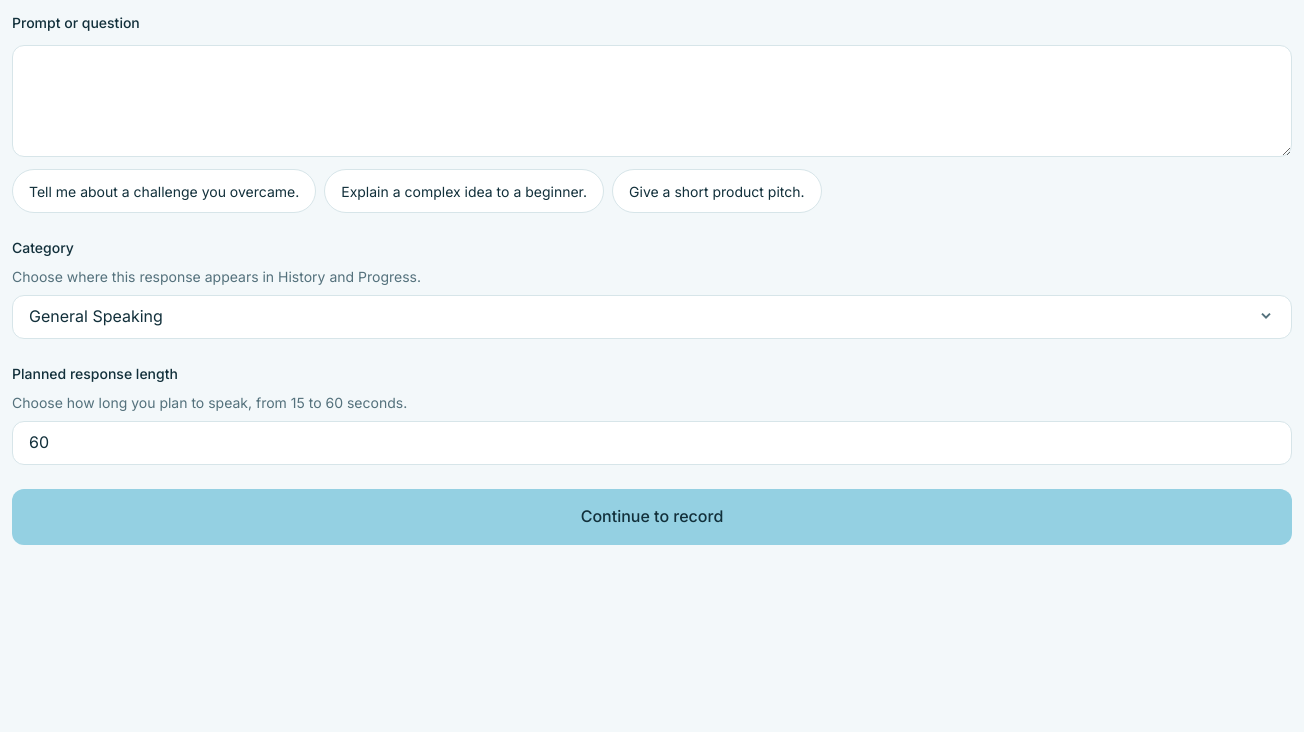
Test: custom prompt form › fills the prompt from each clickable example
The image size is (1304, 732).
Click the button "Tell me about a challenge you overcame." at (164, 191), box 12,169 -> 316,213
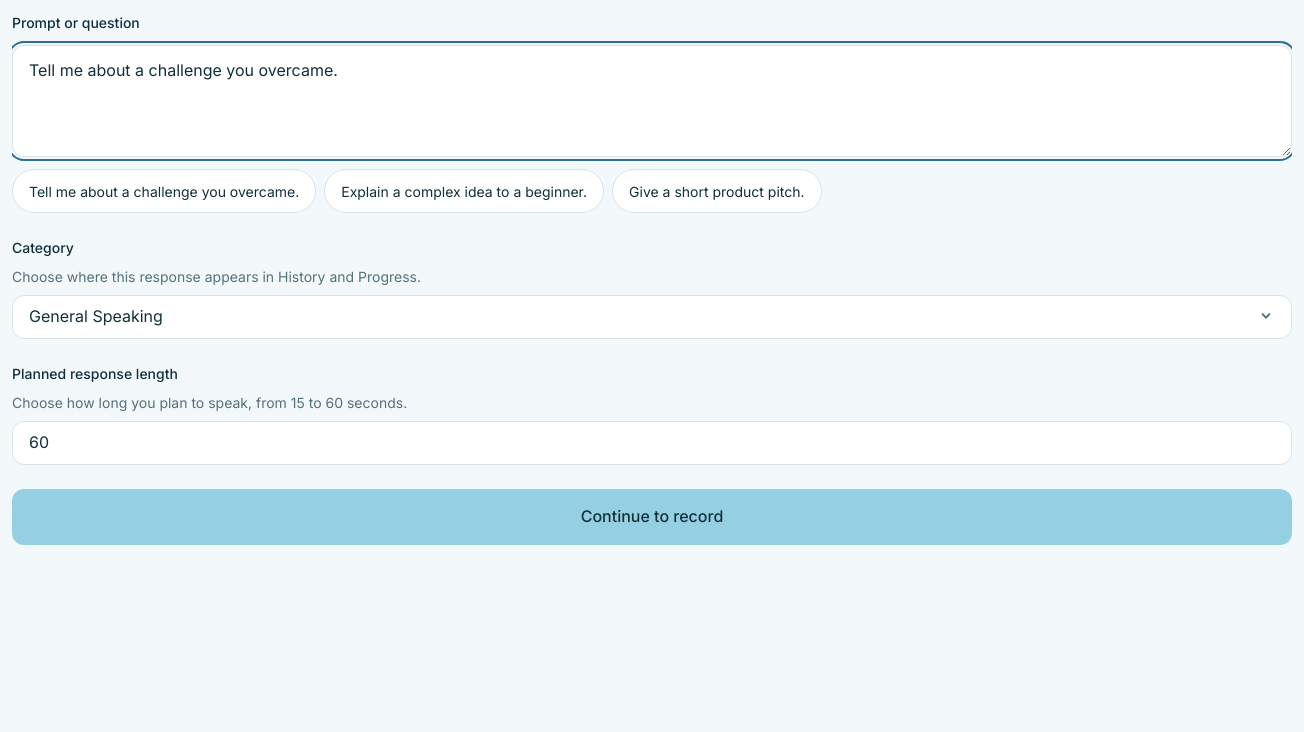
Result: the text box labelled "Prompt or question" holds "Tell me about a challenge you overcame." at 12,45 -> 1292,157
Click the button "Explain a complex idea to a beginner." at (464, 191), box 324,169 -> 604,213
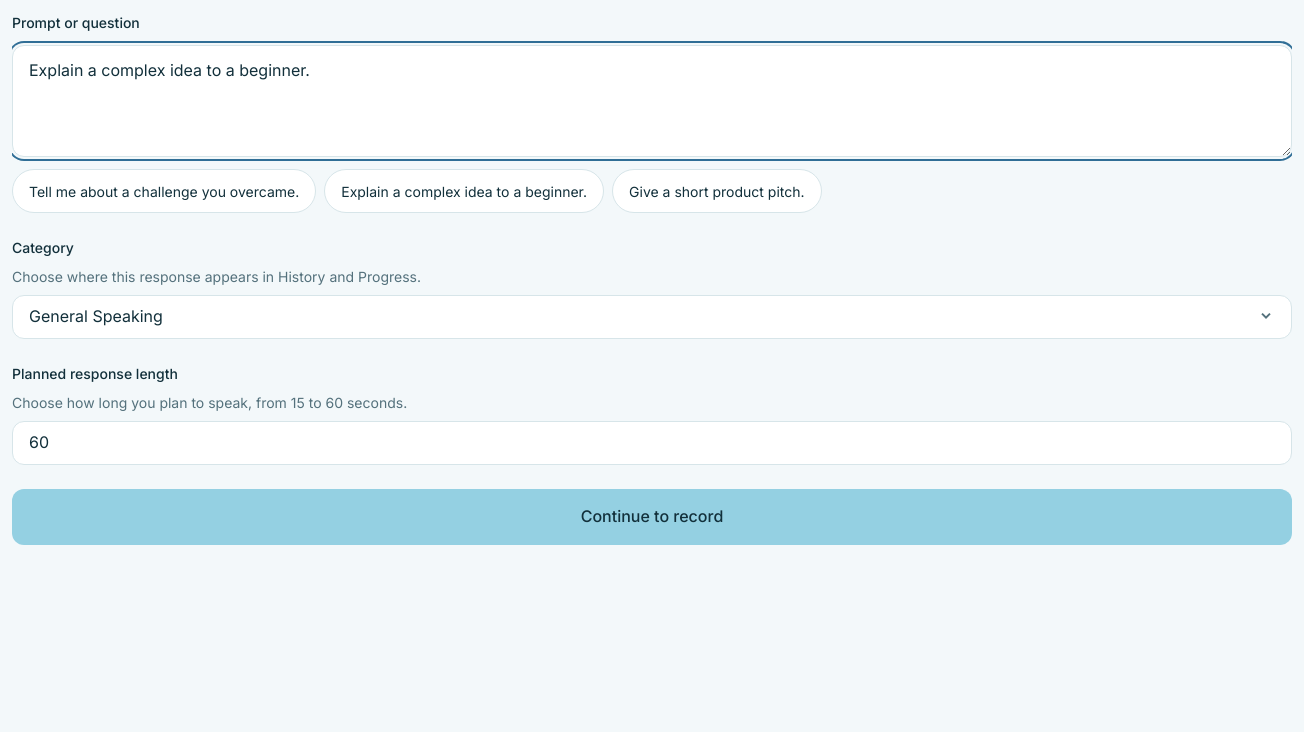
Result: the text box labelled "Prompt or question" holds "Explain a complex idea to a beginner." at 12,45 -> 1292,157
Click the button "Give a short product pitch." at (717, 191), box 612,169 -> 822,213
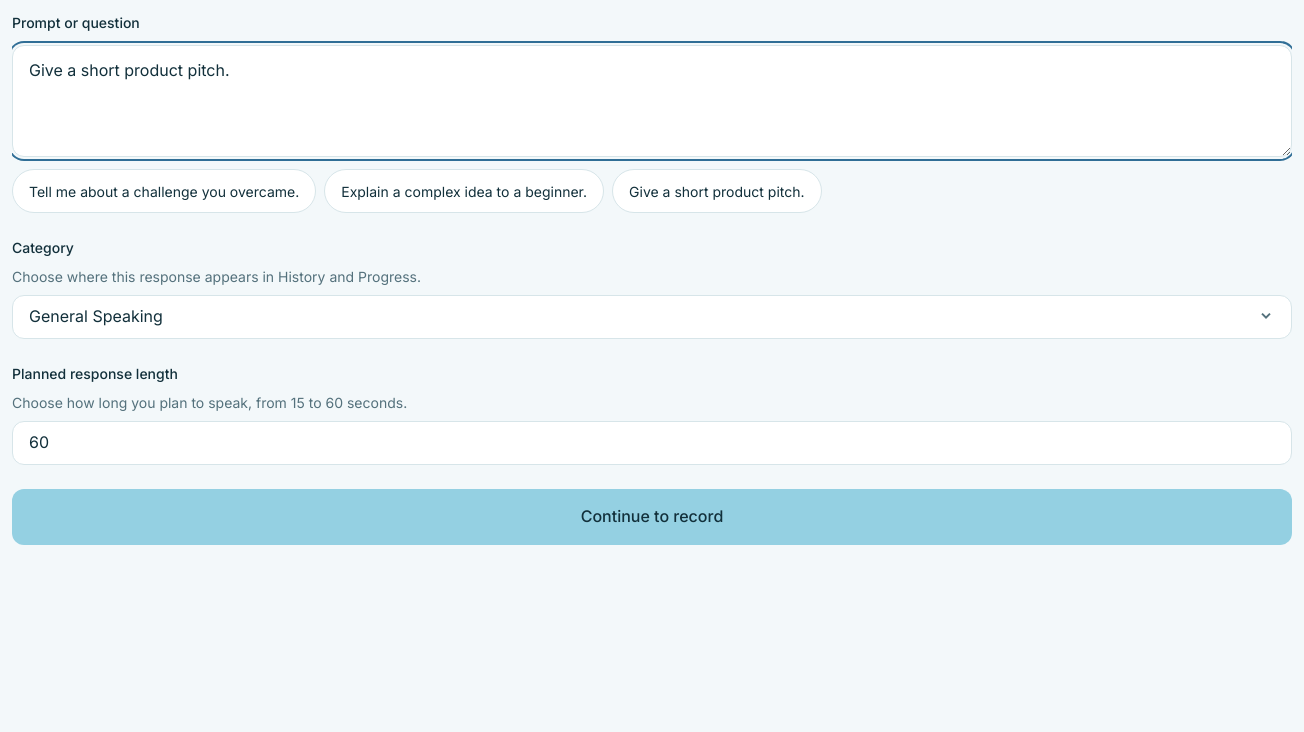
Result: the text box labelled "Prompt or question" holds "Give a short product pitch." at 12,45 -> 1292,157
